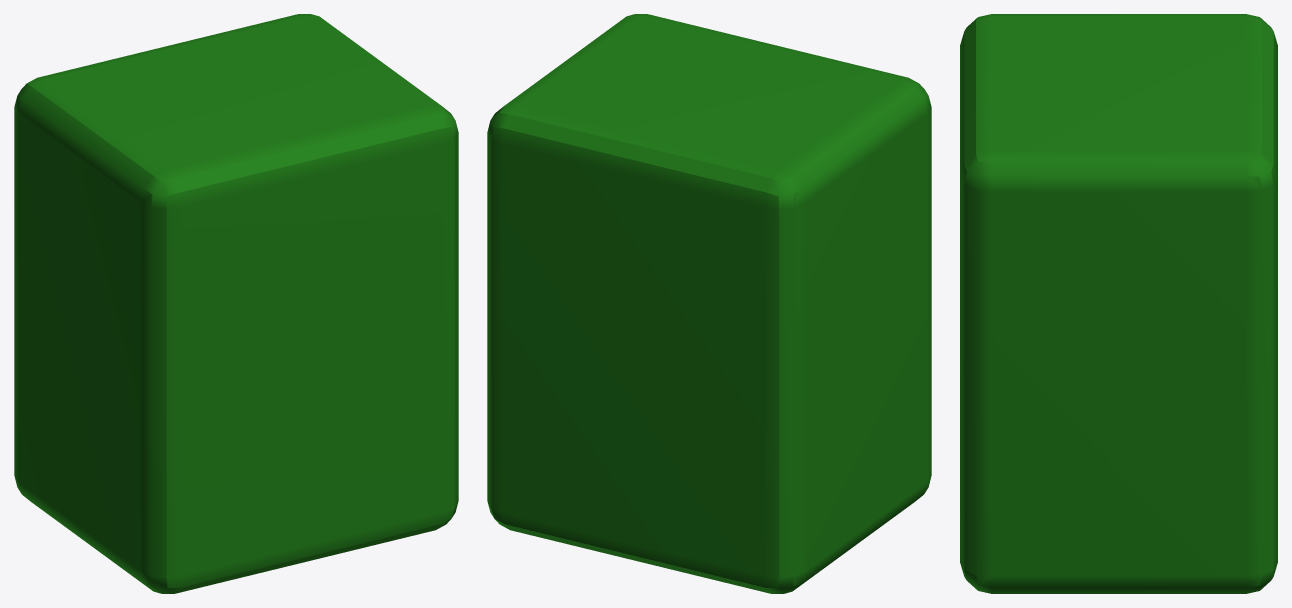
The picture shows the model from 3 angles, left to right: view 1: azimuth 30°, elevation 25°; view 2: azimuth 150°, elevation 25°; view 3: azimuth 270°, elevation 25°; orthographic projection. The views are drawn at different scales.
Parts seen in each view (by area): view 1: Box2_High; view 2: Box2_High; view 3: Box2_High.
Boxes of the visible parts, x1,y1,x2,y2 form: Box2_High: (14,14,458,593); Box2_High: (487,14,931,593); Box2_High: (960,14,1277,593).
Size of the model in its own units: 1 by 1.29 by 0.8406.
